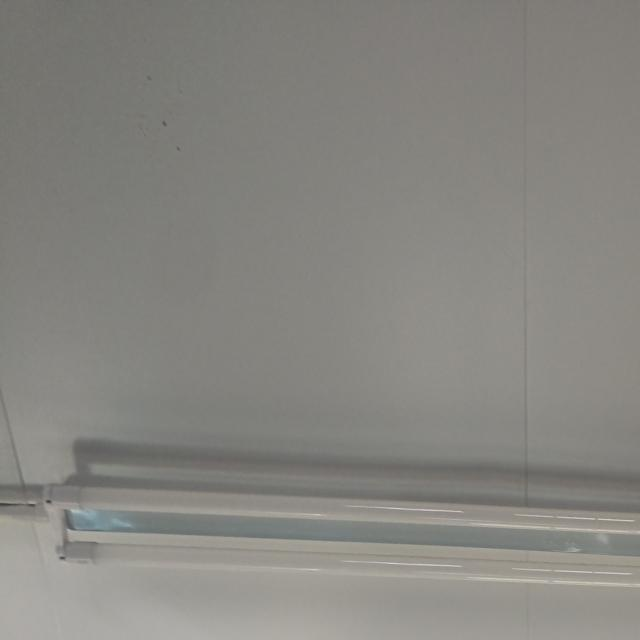fluorescent tube: (22, 434, 640, 639)
